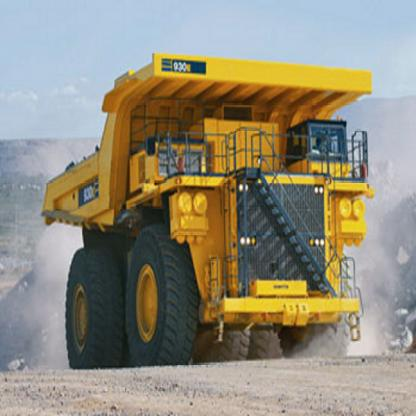dump_truck: (38, 42, 381, 366)
